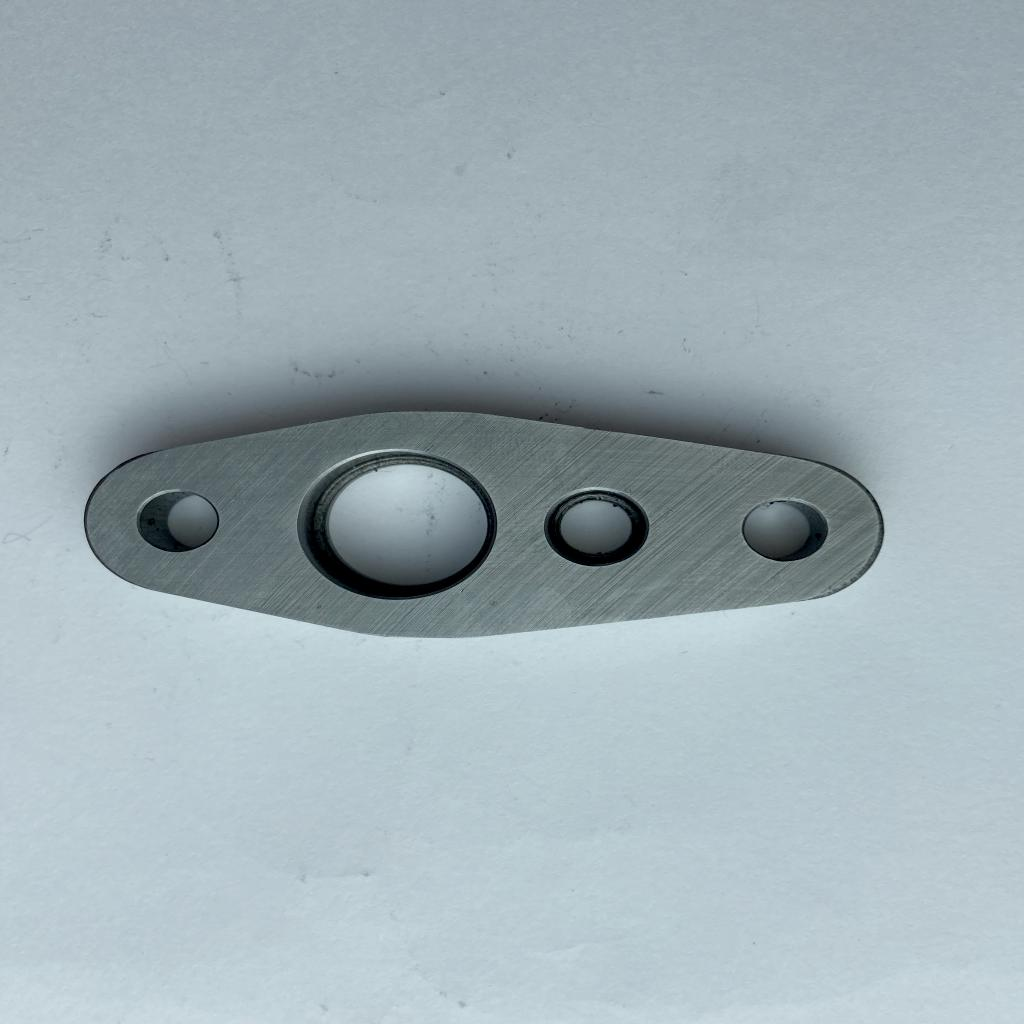chap: (666, 506, 677, 514)
